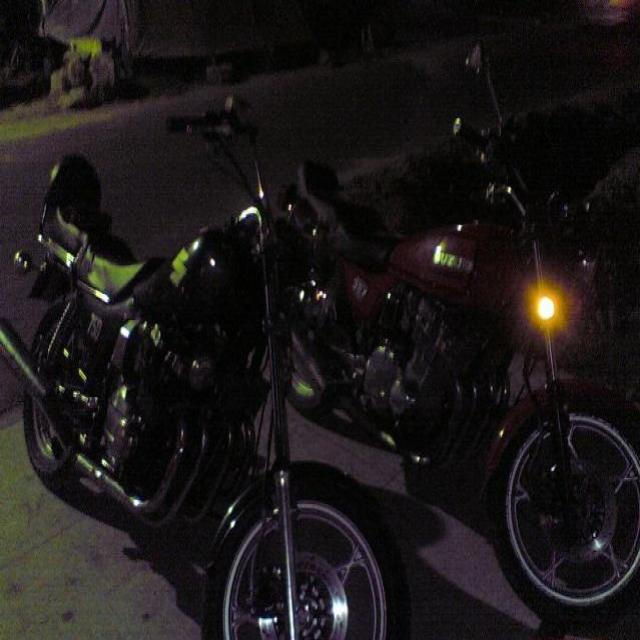Motorbike: (277, 85, 640, 633), (0, 114, 325, 640)
